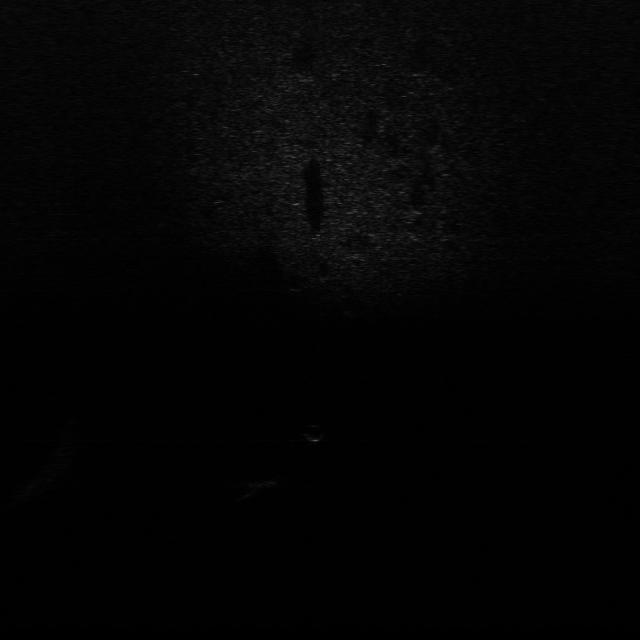ball: (299, 422, 327, 443)
square cage: (236, 474, 286, 498)
